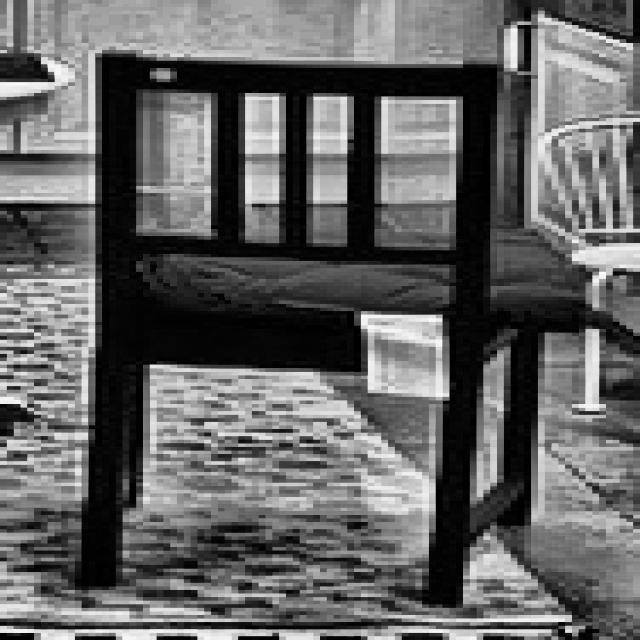chair: (81, 49, 553, 612)
